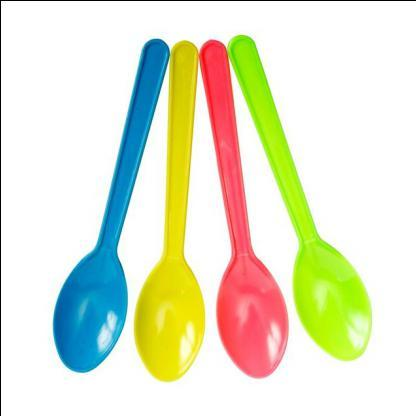Others: (55, 34, 381, 382)
